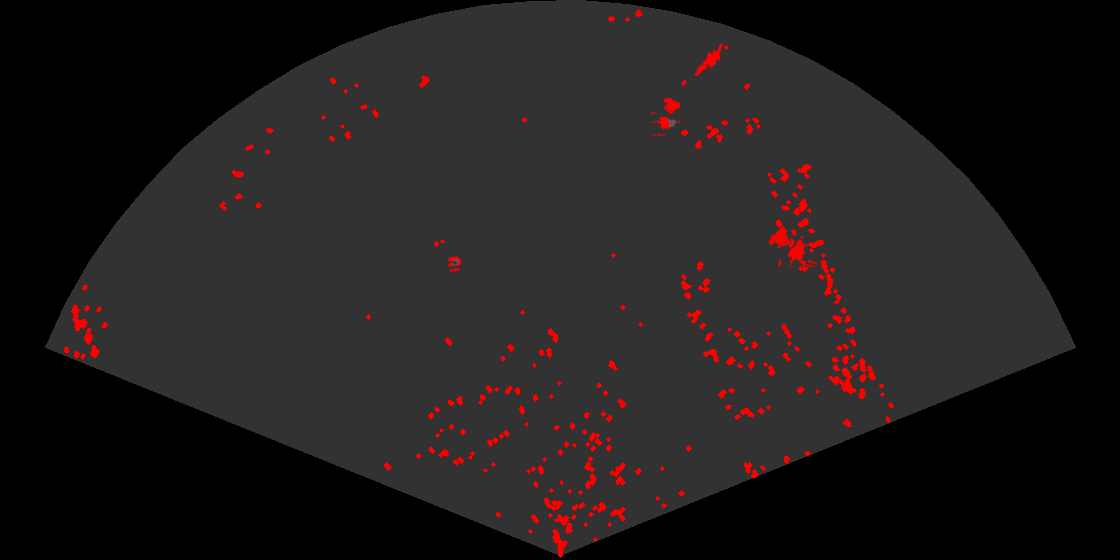ball: (446, 254, 463, 273)
cage: (767, 225, 817, 267), (651, 96, 682, 136)
frogman: (693, 44, 725, 78)
